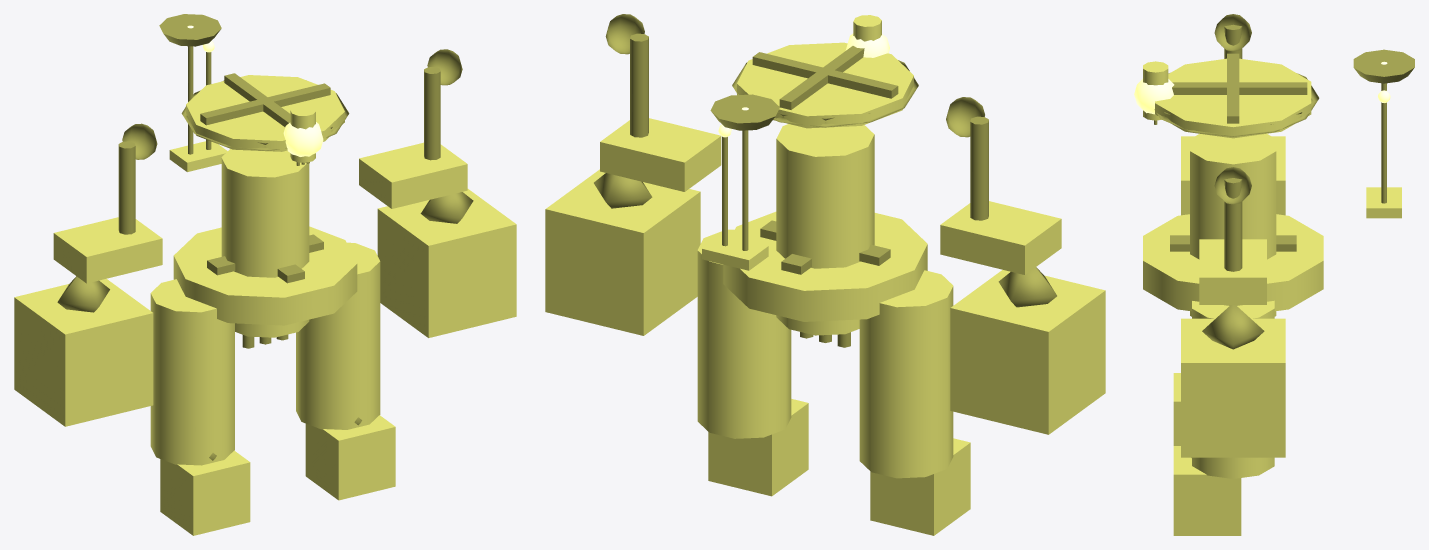
File: golem_057.glb
3 views of the same model, side by side, from view 1: azimuth 30°, elevation 25°; view 2: azimuth 150°, elevation 25°; view 3: azimuth 270°, elevation 25° (orthographic). The views are drawn at different scales.
Visible parts, largest first — view 1: Body, Detail, Glow; view 2: Body, Detail, Glow; view 3: Body, Detail, Glow.
Boxes of the visible parts, left/top/right/bottom form: Body: left=14, top=75, right=516, bottom=535; Detail: left=57, top=14, right=473, bottom=460; Glow: left=187, top=25, right=323, bottom=156; Body: left=545, top=15, right=1105, bottom=535; Detail: left=594, top=14, right=1056, bottom=347; Glow: left=718, top=33, right=889, bottom=137; Body: left=1143, top=58, right=1401, bottom=535; Detail: left=1154, top=14, right=1414, bottom=457; Glow: left=1134, top=61, right=1390, bottom=114.
Size of the model in its own units: 1.45 by 1.26 by 0.7619.
